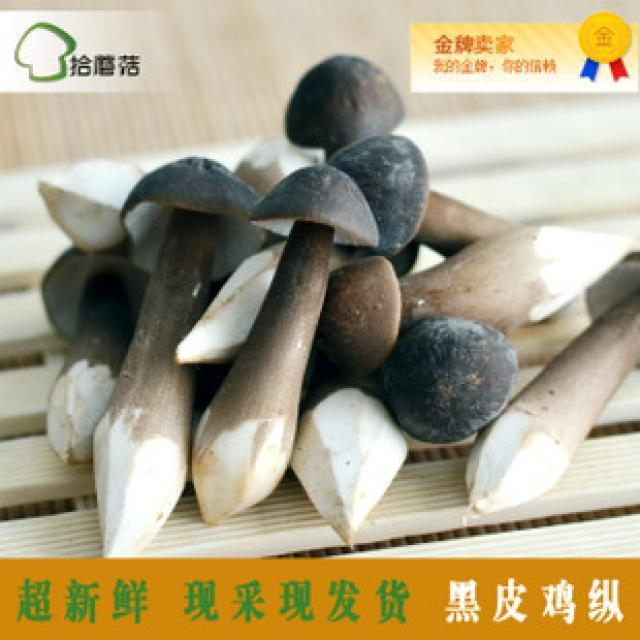Collybia albuminosa: (198, 163, 378, 555), (100, 160, 256, 569), (466, 248, 640, 515), (338, 126, 518, 254), (386, 315, 518, 442), (282, 57, 412, 147)
